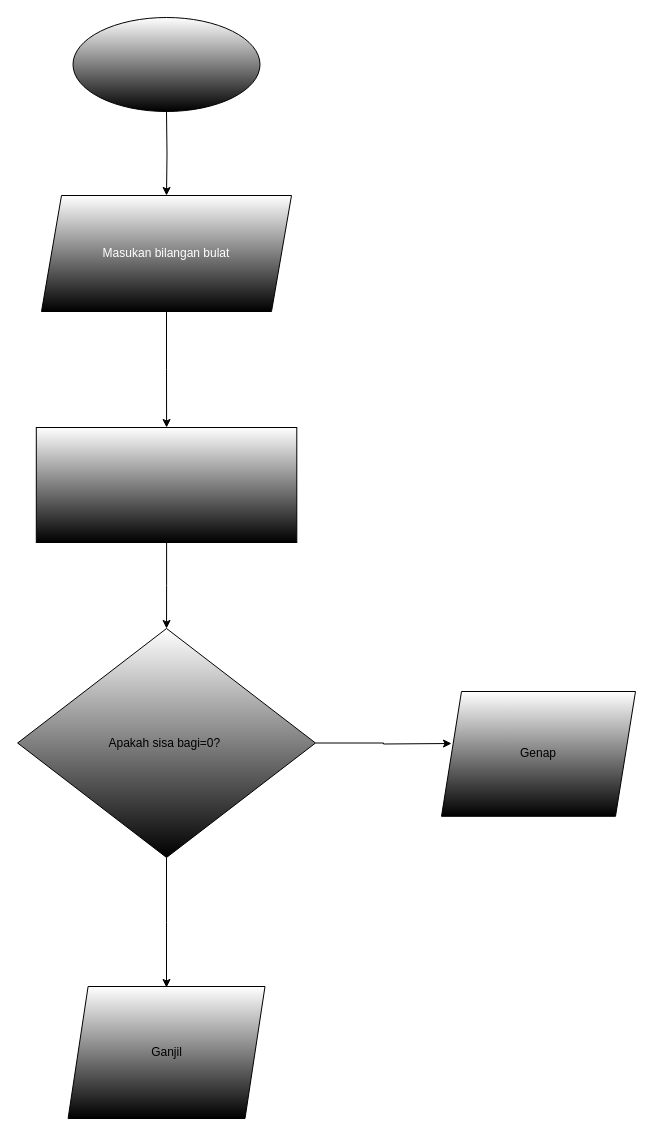
This 653x1136 diagram has some shape labels left out. Here are the shapes that lost their labels. From the top down, the centre of each, then its label:
At point 166,64: "Mulai".
At point 166,484: "Bilangan dibagi 2 Degan operasi Sisa bagi.".
